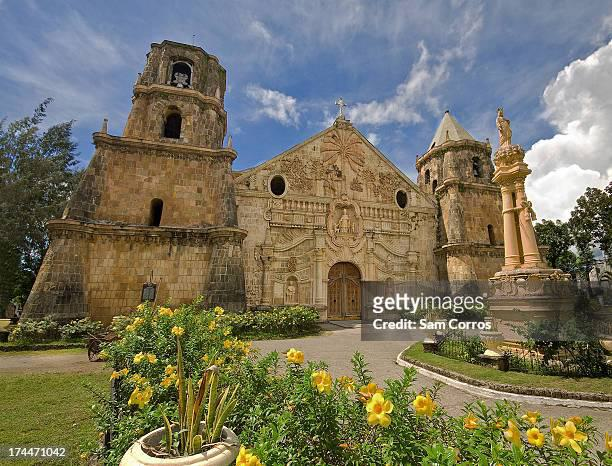Miagao Church: (26, 29, 539, 334)
